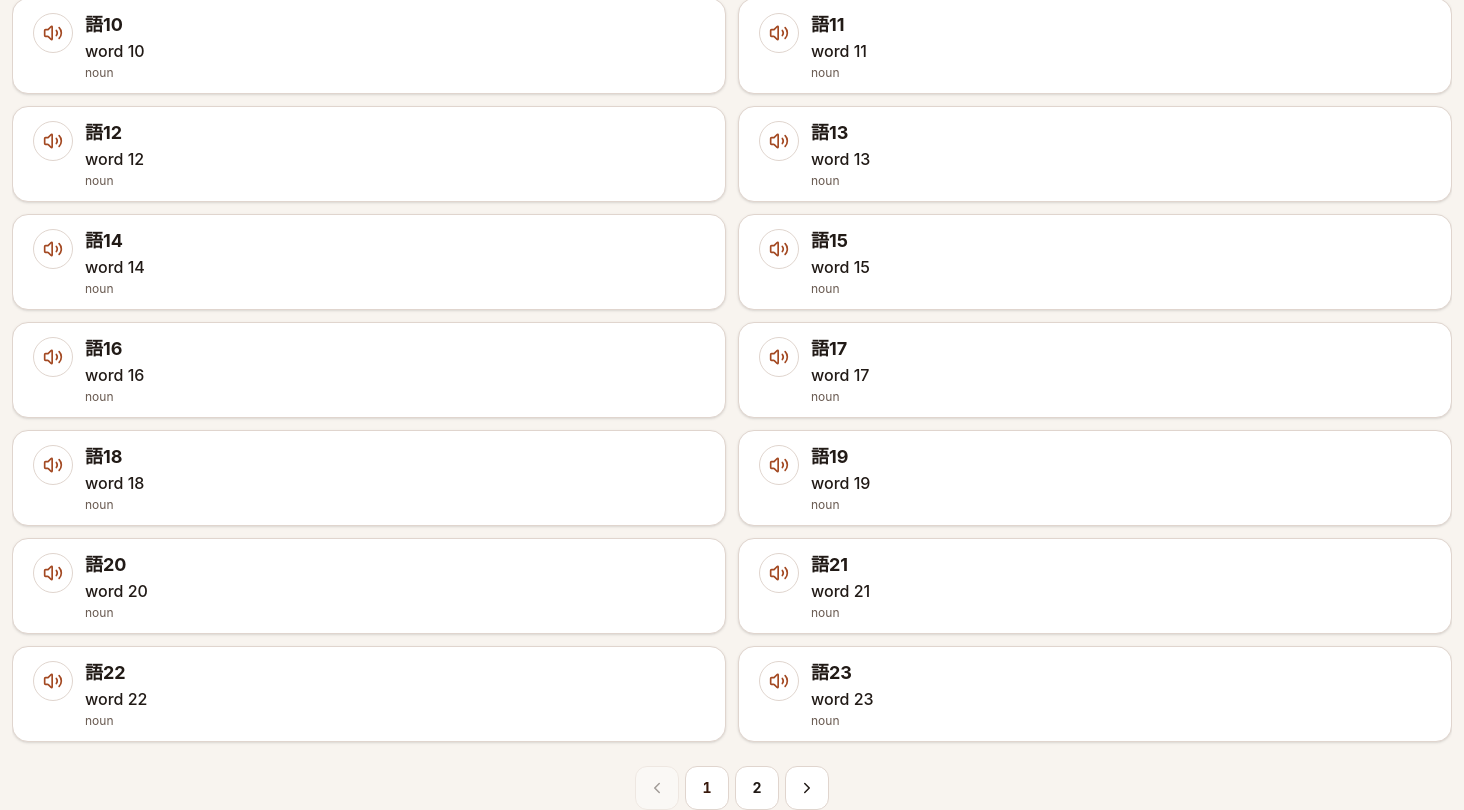
Test: set word list › pages long sets and searches by word, reading or meaning
The width and height of the screenshot is (1464, 810).
(page scrolled)
Click the button named "Next page" at (807, 788), box [785, 766, 829, 809]
(page scrolled)
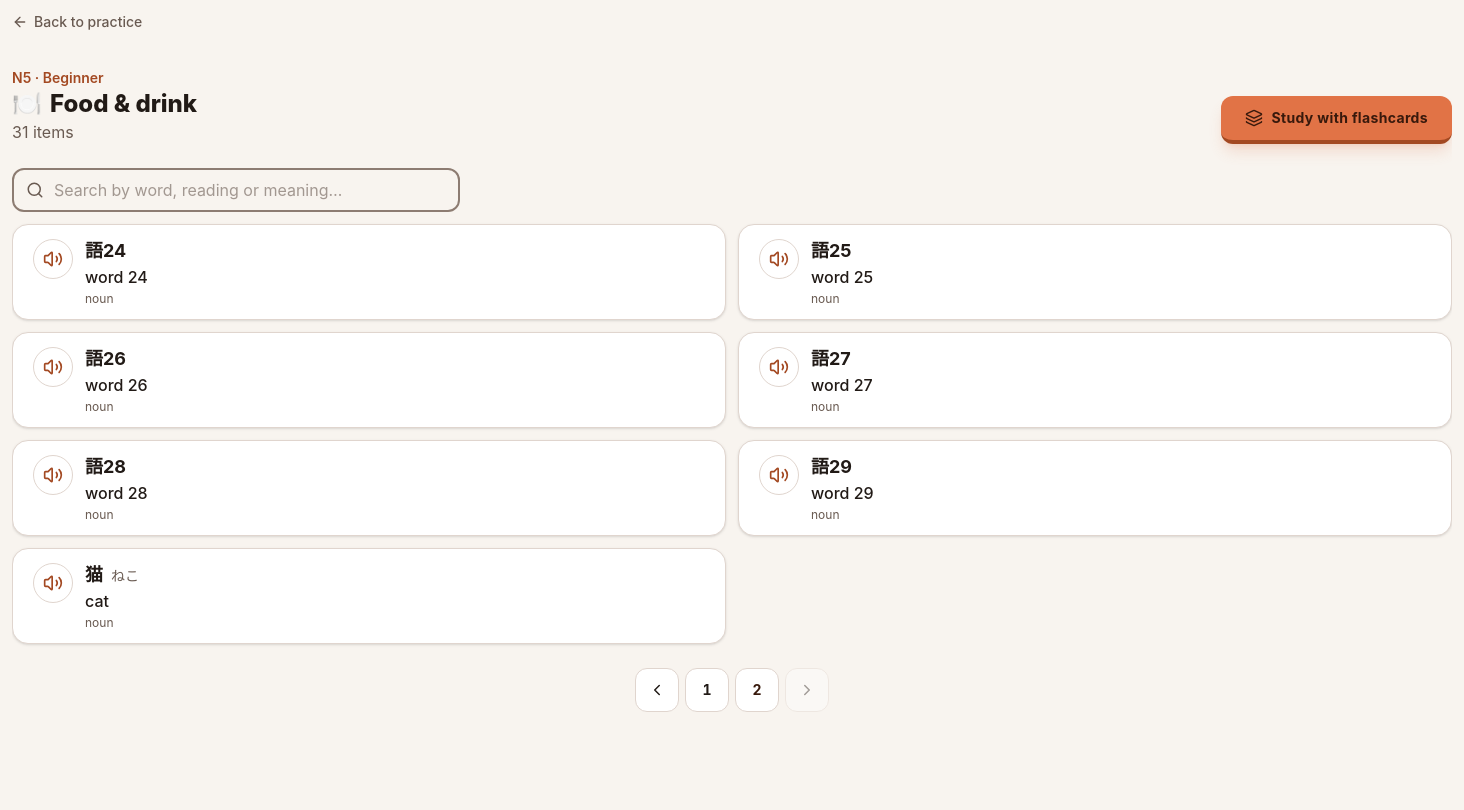
Check: the text "猫" is shown, box [85, 561, 103, 589]
Type "cat" into the search field named "Search words" at (236, 190), box [12, 168, 460, 212]
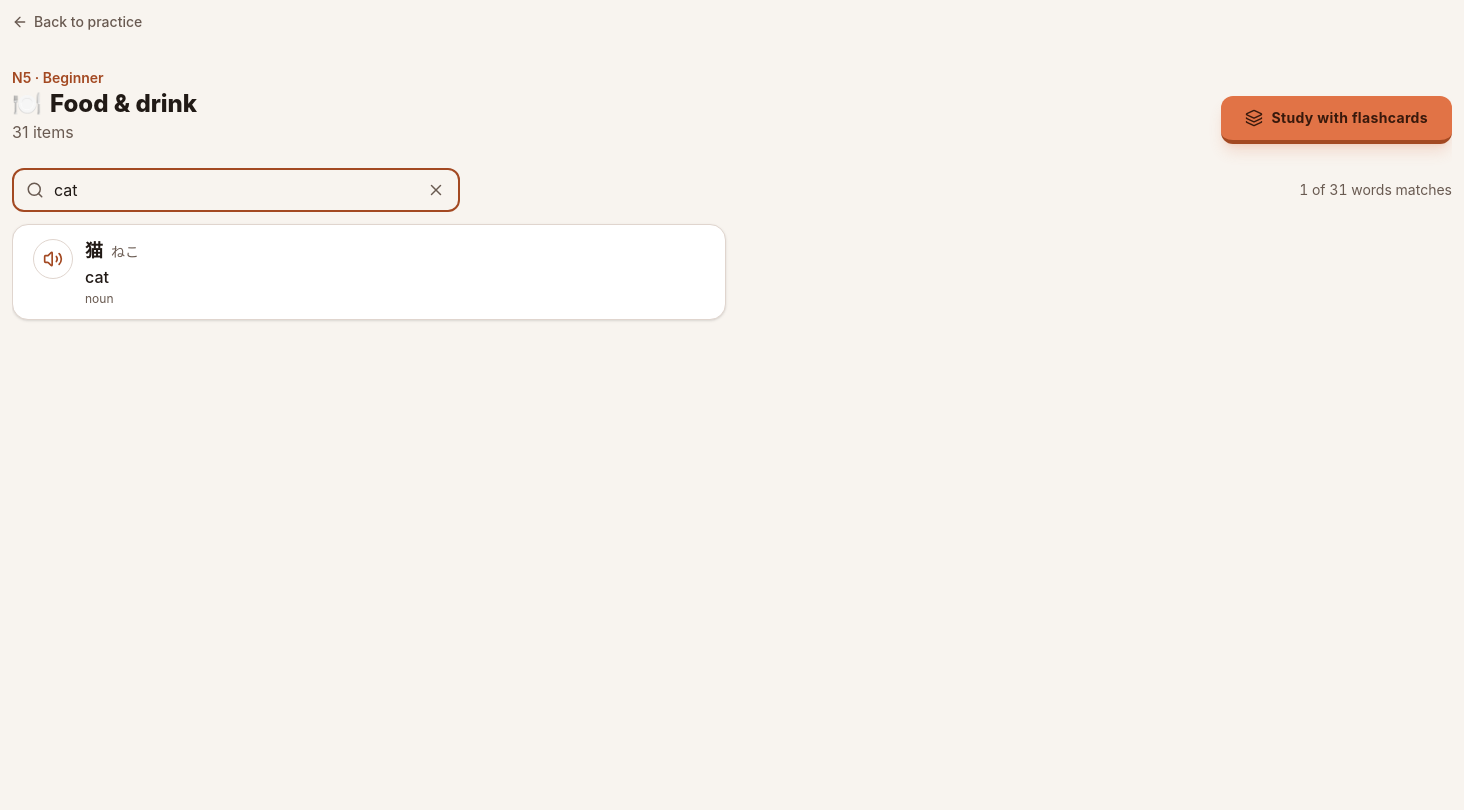
Check: the number of list items is 1, box [12, 224, 726, 320]
Check: the text "1 of 31 words matches" is shown, box [1299, 180, 1452, 200]
Replace the text in the search field named "Search words" with "ね" at (236, 190), box [12, 168, 460, 212]
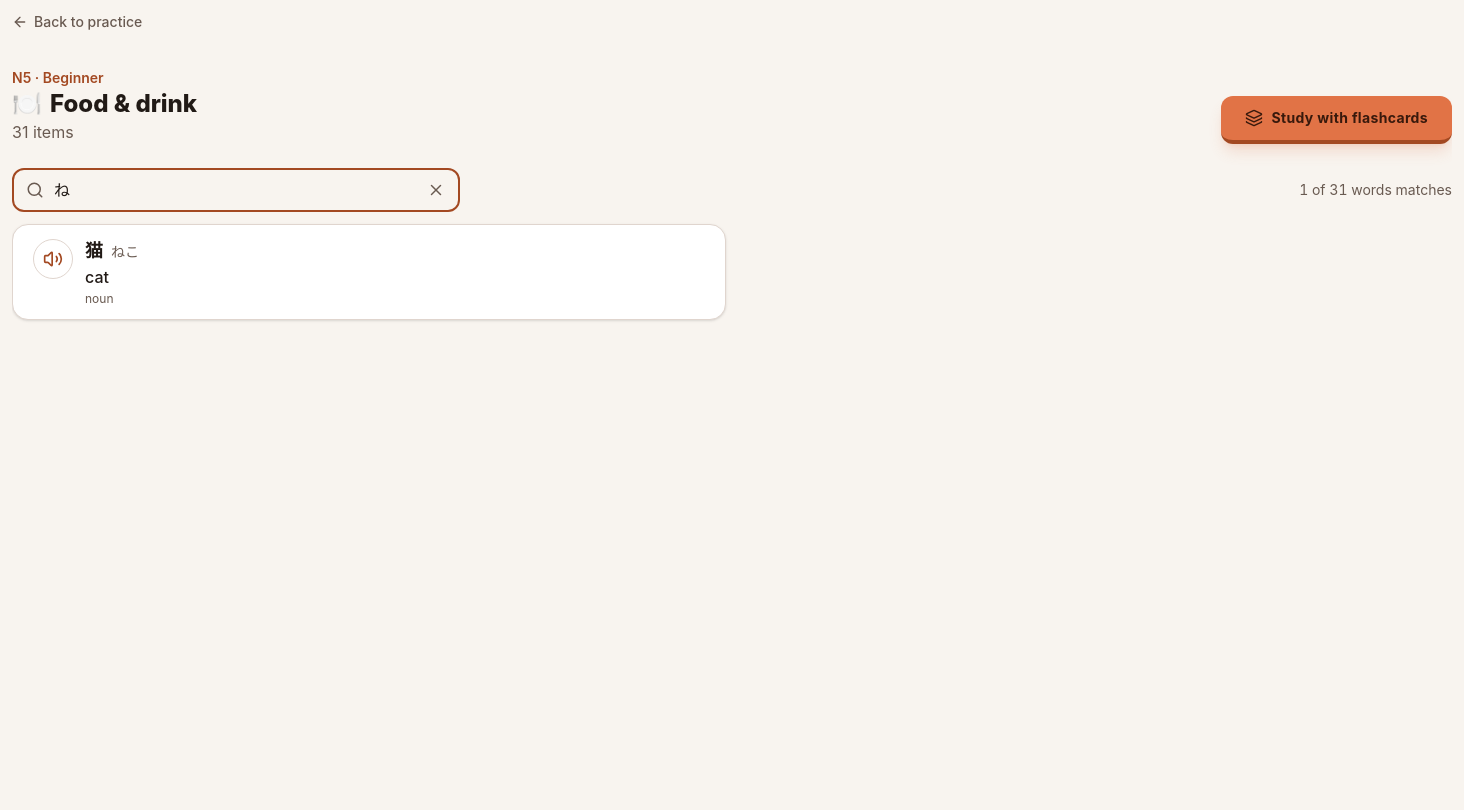
Check: the text "猫" is shown, box [85, 237, 103, 265]
Type "zz" into the search field named "Search words" at (236, 190), box [12, 168, 460, 212]
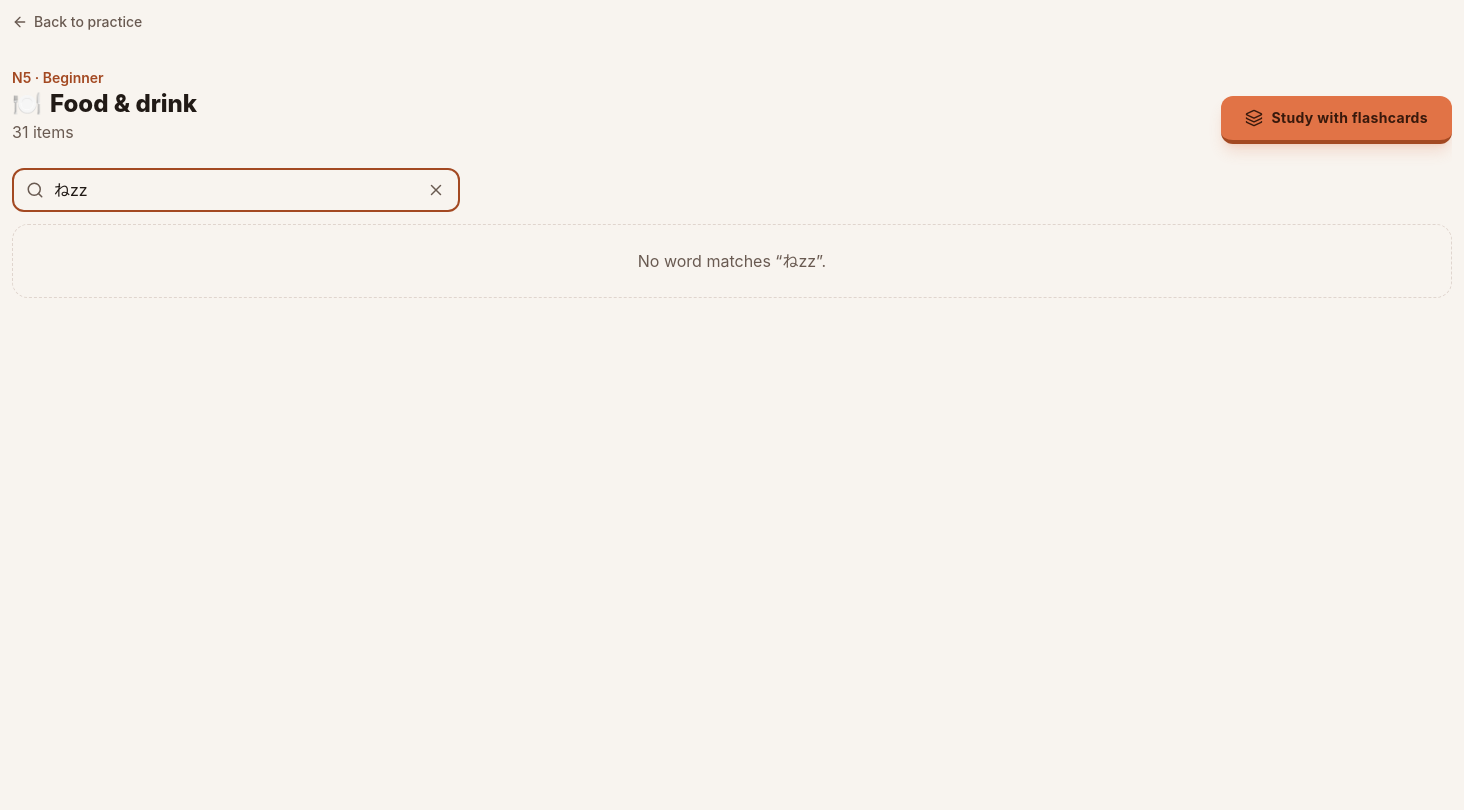
Check: the text "No word matches “ねzz”." is shown, box [12, 224, 1452, 298]
